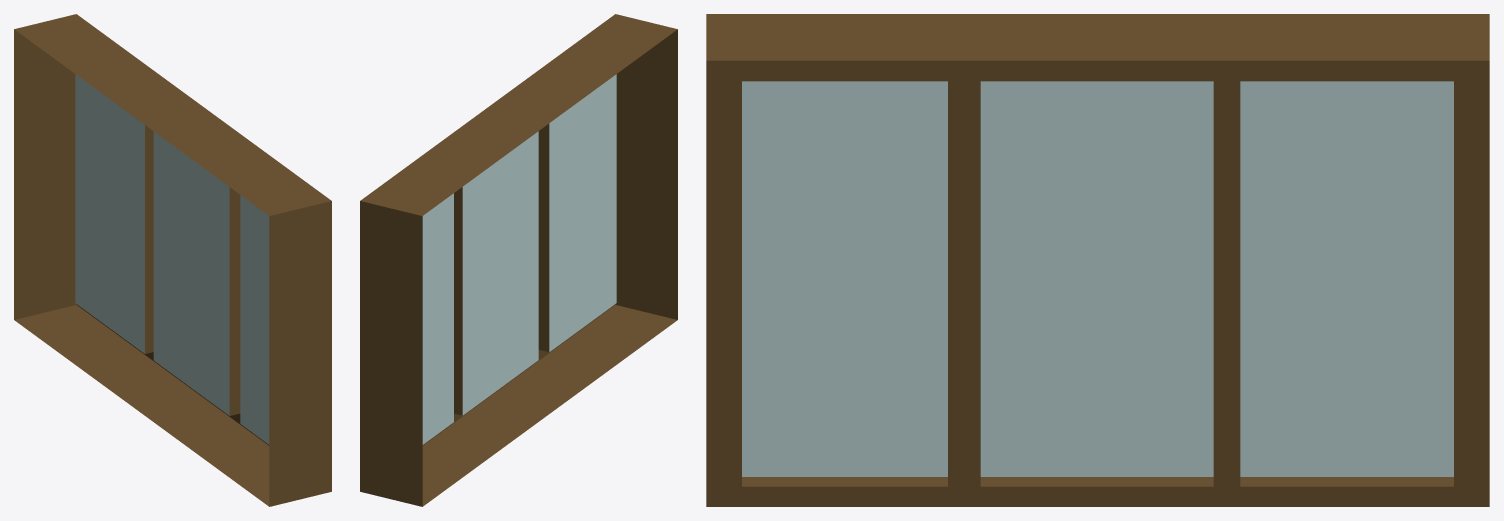
The model's file is window_2_3.fbx.
3 renders of one model, left to right at view 1: azimuth 30°, elevation 25°; view 2: azimuth 150°, elevation 25°; view 3: azimuth 270°, elevation 25°, orthographic. The views are drawn at different scales.
Parts seen in each view (by area): view 1: window_2_3; view 2: window_2_3; view 3: window_2_3.
Part boxes in pixels (left/top/right/bottom): window_2_3: left=14, top=14, right=331, bottom=506; window_2_3: left=360, top=14, right=677, bottom=506; window_2_3: left=706, top=14, right=1489, bottom=506.
Size of the model in its own units: 49.39 by 220 by 350.
